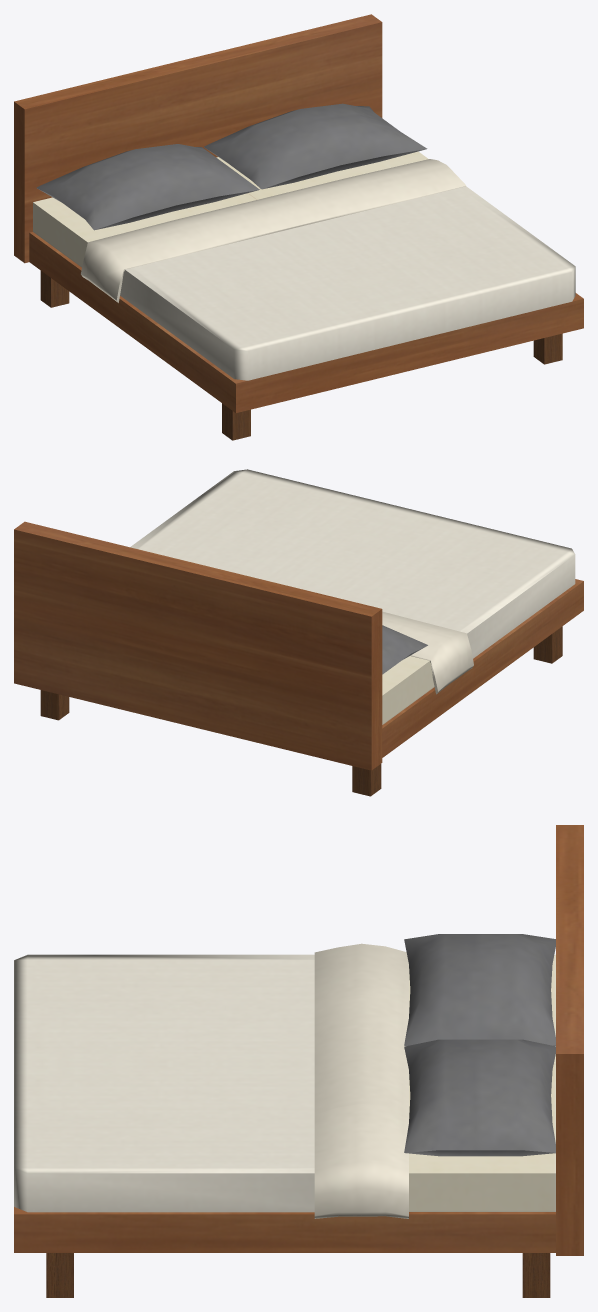
File: Bed_2A.fbx
The picture shows the model from 3 angles, top to bottom: view 1: azimuth 30°, elevation 25°; view 2: azimuth 150°, elevation 25°; view 3: azimuth 270°, elevation 25°; orthographic projection. The views are drawn at different scales.
Visible parts, largest first — view 1: polySurface858; view 2: polySurface858; view 3: polySurface858.
Boxes of the visible parts, bbox=[...] form: polySurface858: bbox=[14, 14, 583, 440]; polySurface858: bbox=[14, 469, 583, 796]; polySurface858: bbox=[14, 825, 583, 1297].
Size of the model in its own units: 3.84 by 1.96 by 4.
